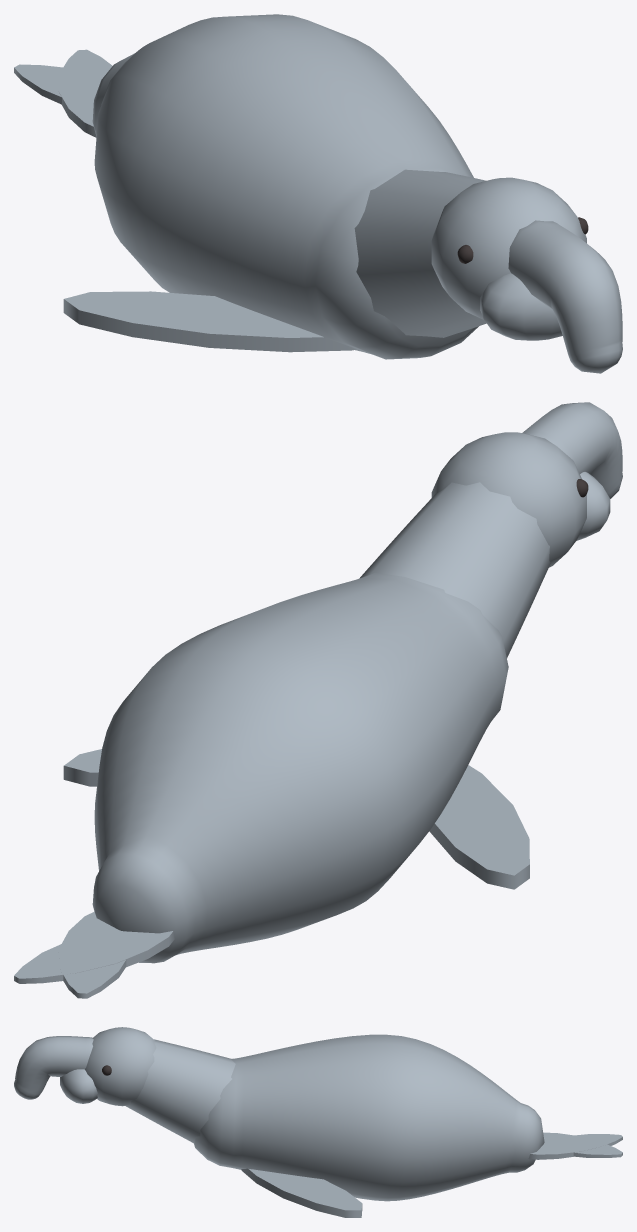
The model's file is polar-tundra-and-alpine-fauna-southern-elephant-seal-9830524c__6074.glb.
The picture shows the model from 3 angles, top to bottom: view 1: azimuth 30°, elevation 25°; view 2: azimuth 150°, elevation 25°; view 3: azimuth 270°, elevation 25°; orthographic projection. The views are drawn at different scales.
Parts seen in each view (by area): view 1: southern-elephant-seal; view 2: southern-elephant-seal; view 3: southern-elephant-seal.
Part boxes in pixels (x1,y1,x2,y2): southern-elephant-seal: (14, 14, 622, 373); southern-elephant-seal: (14, 402, 622, 998); southern-elephant-seal: (14, 1027, 622, 1217).
Size of the model in its own units: 2.09 by 1.31 by 4.5.
